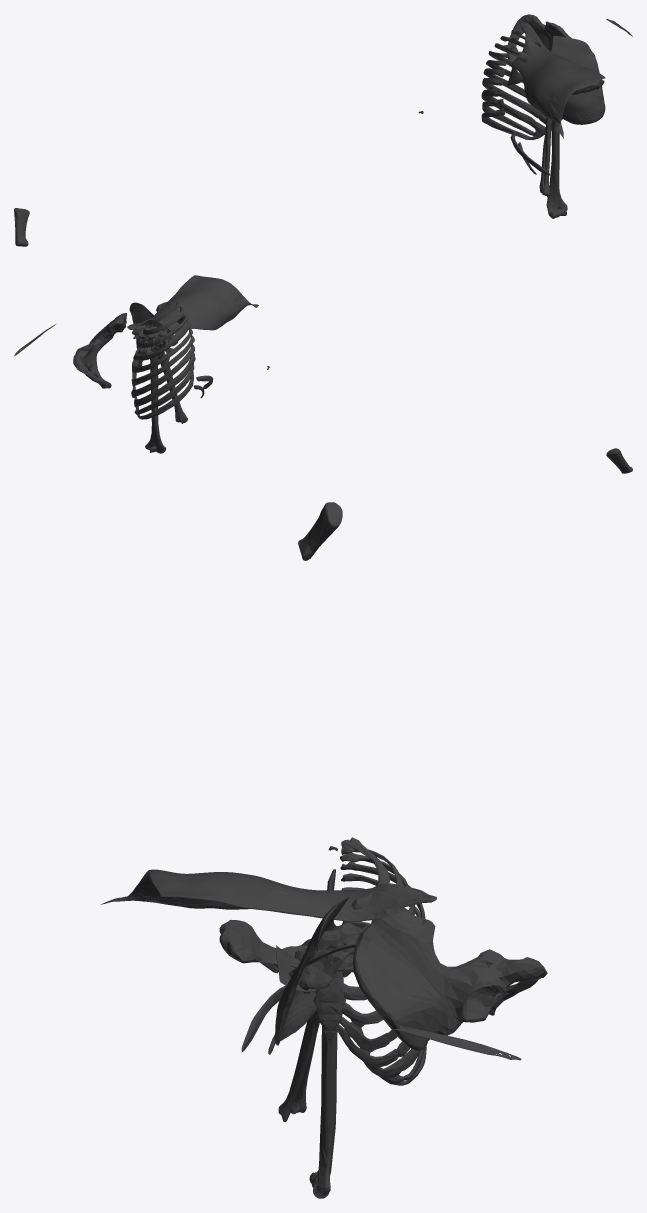
The model's file is sharedassets47.glb.
The picture shows the model from 3 angles, top to bottom: view 1: azimuth 30°, elevation 25°; view 2: azimuth 150°, elevation 25°; view 3: azimuth 270°, elevation 25°; orthographic projection. The views are drawn at different scales.
Visible parts, largest first — view 1: 0004_Latissimus dorsi, R__1000235, 0000_Pectoralis major, R__1000310, 0007_Humerus _arm, brachium_, R__000807, 0079_Eighth rib _08_, R__002280, 0088_Seventh rib _07_, R__002279, 0011_2nd Middle phalanx _hand_, R__000815, 0080_Ninth rib _09_, R__002281, 0081_Tenth rib _10_, R__002282, 0090_Ischium, R__001010, 0035_Ulna _forearm, antebrachium_, R__000808, 0092_Ilium, R__001012, 0087_Sixth rib _06_, R__002278; view 2: 0004_Latissimus dorsi, R__1000235, 0092_Ilium, R__001012, 0007_Humerus _arm, brachium_, R__000807, 0079_Eighth rib _08_, R__002280, 0088_Seventh rib _07_, R__002279, 0000_Pectoralis major, R__1000310, 0090_Ischium, R__001010, 0087_Sixth rib _06_, R__002278, 0080_Ninth rib _09_, R__002281, 0086_Fifth rib _05_, R__002277, 0081_Tenth rib _10_, R__002282, 0085_Fourth rib _04_, R__002276 (+3 smaller); view 3: 0092_Ilium, R__001012, 0004_Latissimus dorsi, R__1000235, 0007_Humerus _arm, brachium_, R__000807, 0000_Pectoralis major, R__1000310, 0090_Ischium, R__001010, 0049_S01-05 Sacrum__001242, 0075_Manubrium__001162, 0076_Body of sternum__001163, 0091_Pubis, R__001011, 0011_2nd Middle phalanx _hand_, R__000815, 0035_Ulna _forearm, antebrachium_, R__000808, 0037_Interosseous membrane _antebrachial_, R_.
Part boxes in pixels (bbox=[...]): 0004_Latissimus dorsi, R__1000235: bbox=[509, 22, 605, 138]; 0000_Pectoralis major, R__1000310: bbox=[507, 35, 605, 124]; 0007_Humerus _arm, brachium_, R__000807: bbox=[546, 120, 567, 218]; 0079_Eighth rib _08_, R__002280: bbox=[481, 89, 551, 135]; 0088_Seventh rib _07_, R__002279: bbox=[482, 78, 562, 127]; 0011_2nd Middle phalanx _hand_, R__000815: bbox=[14, 208, 29, 246]; 0080_Ninth rib _09_, R__002281: bbox=[482, 98, 542, 138]; 0081_Tenth rib _10_, R__002282: bbox=[481, 108, 538, 139]; 0090_Ischium, R__001010: bbox=[508, 14, 546, 44]; 0035_Ulna _forearm, antebrachium_, R__000808: bbox=[542, 117, 551, 197]; 0092_Ilium, R__001012: bbox=[541, 21, 595, 57]; 0087_Sixth rib _06_, R__002278: bbox=[483, 68, 526, 97]; 0004_Latissimus dorsi, R__1000235: bbox=[127, 275, 258, 337]; 0092_Ilium, R__001012: bbox=[85, 313, 126, 365]; 0007_Humerus _arm, brachium_, R__000807: bbox=[145, 355, 165, 453]; 0079_Eighth rib _08_, R__002280: bbox=[134, 353, 195, 407]; 0088_Seventh rib _07_, R__002279: bbox=[131, 344, 194, 397]; 0000_Pectoralis major, R__1000310: bbox=[129, 302, 169, 362]; 0090_Ischium, R__001010: bbox=[73, 344, 97, 380]; 0087_Sixth rib _06_, R__002278: bbox=[131, 335, 194, 386]; 0080_Ninth rib _09_, R__002281: bbox=[134, 363, 194, 414]; 0086_Fifth rib _05_, R__002277: bbox=[132, 327, 192, 373]; 0081_Tenth rib _10_, R__002282: bbox=[137, 371, 193, 419]; 0085_Fourth rib _04_, R__002276: bbox=[133, 320, 191, 360]; 0092_Ilium, R__001012: bbox=[353, 907, 474, 1050]; 0004_Latissimus dorsi, R__1000235: bbox=[100, 869, 436, 921]; 0007_Humerus _arm, brachium_, R__000807: bbox=[309, 1026, 337, 1198]; 0000_Pectoralis major, R__1000310: bbox=[274, 896, 350, 1045]; 0090_Ischium, R__001010: bbox=[465, 949, 547, 993]; 0049_S01-05 Sacrum__001242: bbox=[288, 923, 363, 993]; 0075_Manubrium__001162: bbox=[219, 920, 278, 973]; 0076_Body of sternum__001163: bbox=[313, 930, 345, 1031]; 0091_Pubis, R__001011: bbox=[463, 983, 529, 1022]; 0011_2nd Middle phalanx _hand_, R__000815: bbox=[298, 502, 342, 560]; 0035_Ulna _forearm, antebrachium_, R__000808: bbox=[278, 1017, 319, 1121]; 0037_Interosseous membrane _antebrachial_, R_: bbox=[394, 1024, 521, 1060].
Size of the model in its own units: 0.7785 by 0.2153 by 0.2676.
1 material, 1 textured.
